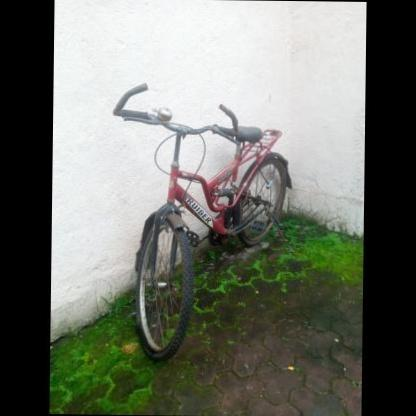Bicycle: (85, 67, 294, 367)
